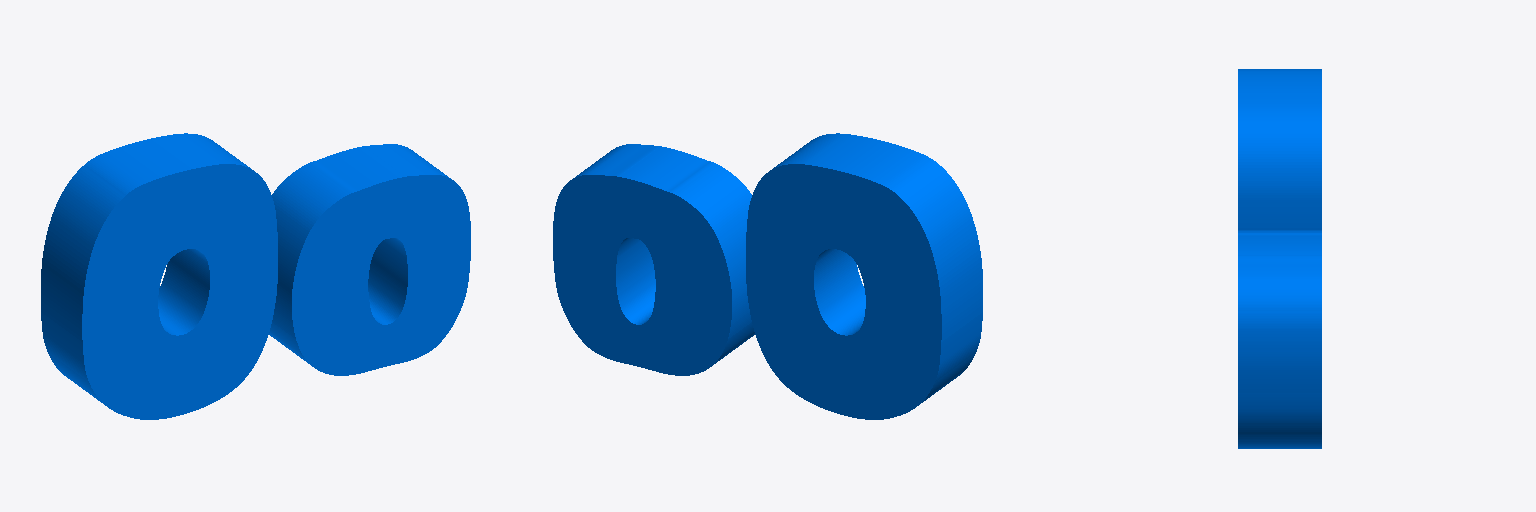
The model's file is Letter_o.obj.
The picture shows the model from 3 angles: view 1: azimuth 30°, elevation 25°; view 2: azimuth 150°, elevation 25°; view 3: azimuth 270°, elevation 25°; orthographic projection.
Parts seen in each view (by area): view 1: Text; view 2: Text; view 3: Text.
Boxes of the visible parts, x1,y1,x2,y2 form: Text: [41, 133, 470, 419]; Text: [553, 133, 982, 419]; Text: [1238, 69, 1321, 448].
Size of the model in its own units: 1.08 by 0.6493 by 0.2.